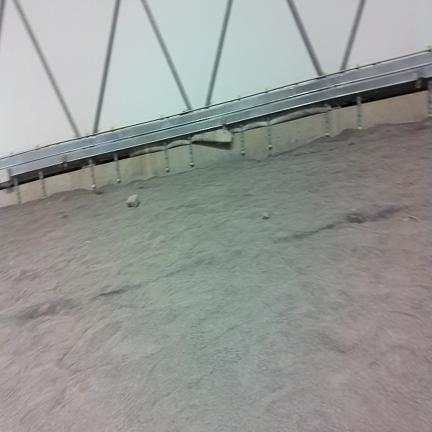Rock: (127, 195, 139, 207), (262, 212, 269, 219)
